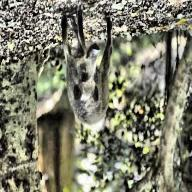boar: (54, 16, 126, 134)
